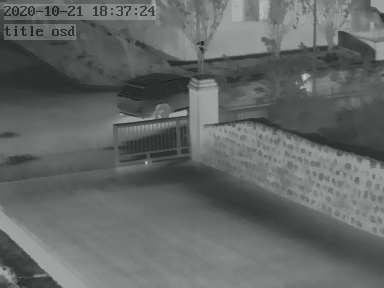vehicle: (117, 74, 189, 119)
